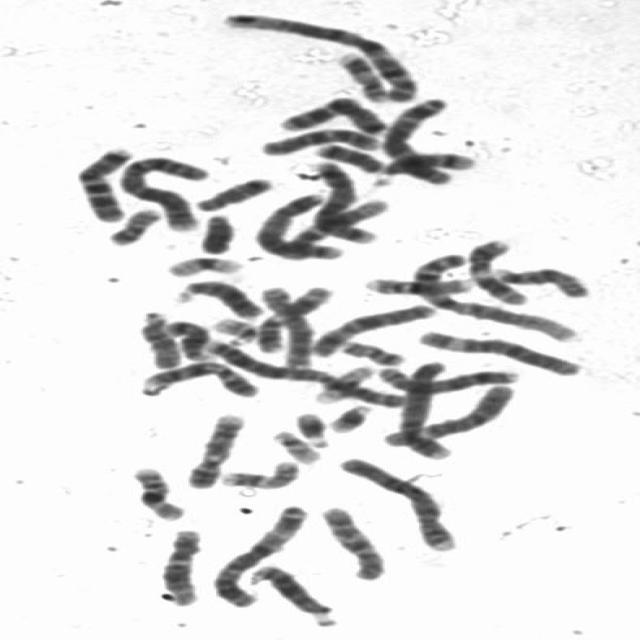A1: (215, 8, 422, 104), (403, 247, 585, 344)
A2: (193, 336, 416, 409), (111, 151, 211, 233)
A3: (203, 499, 312, 609), (375, 93, 460, 186)
B4: (331, 452, 463, 553), (395, 358, 456, 461)
B5: (250, 190, 348, 262), (302, 157, 380, 246)
C10: (312, 502, 391, 582), (254, 124, 384, 156)
C11: (250, 282, 335, 354), (460, 235, 531, 306)
C12: (257, 193, 393, 260), (150, 525, 207, 607)
C6: (375, 380, 518, 447), (411, 326, 586, 377)
C7: (70, 142, 138, 223), (271, 93, 390, 136)
C8: (257, 285, 318, 372), (369, 362, 521, 395)
C9: (178, 409, 248, 490), (132, 357, 263, 400)
D13: (244, 560, 342, 628), (168, 275, 266, 321)
D14: (372, 147, 479, 176), (160, 316, 214, 362)
D15: (486, 262, 591, 300), (132, 307, 185, 370)
E16: (124, 462, 190, 522), (359, 273, 476, 296)
E17: (330, 47, 390, 102), (213, 457, 304, 489)
E18: (189, 173, 276, 212), (308, 139, 386, 174)
F19: (308, 361, 378, 404), (159, 252, 247, 278)
F20: (101, 204, 164, 246), (332, 336, 409, 367)
G21: (288, 407, 334, 448), (322, 400, 375, 434)
G22: (265, 426, 325, 464), (204, 314, 262, 346)
X: (302, 299, 440, 359)
Y: (192, 209, 238, 255)
